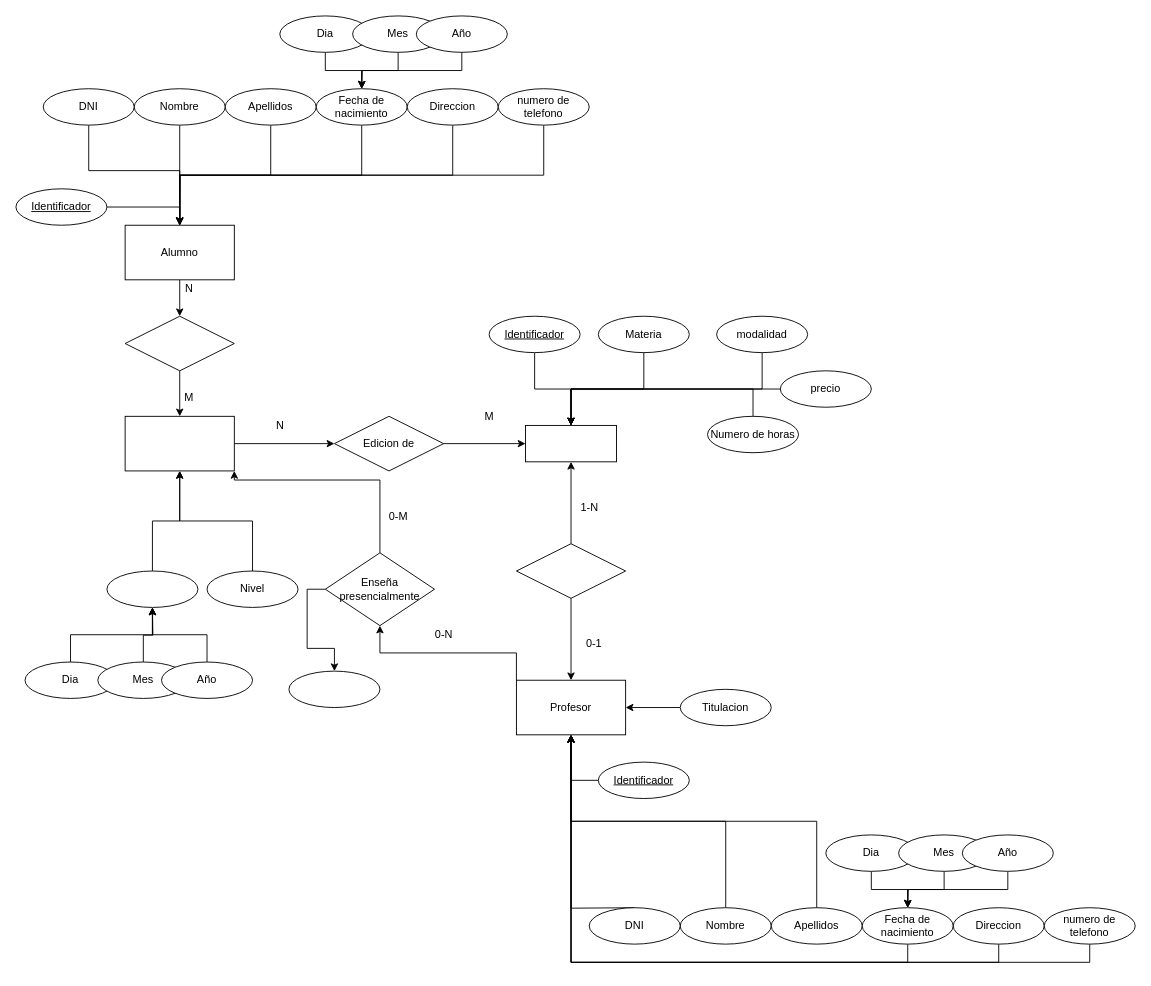
Some shapes in this 1151 by 986 pixel diagram are drawn without their labels. The centre of each missing label's shape, as x and y in pixels:
Curso: [571,443]
Edicion de curso: [179,443]
encargado de la docencia: [571,570]
fecha de inicio: [152,588]
Horas: [334,689]
Matriculan en: [179,343]
